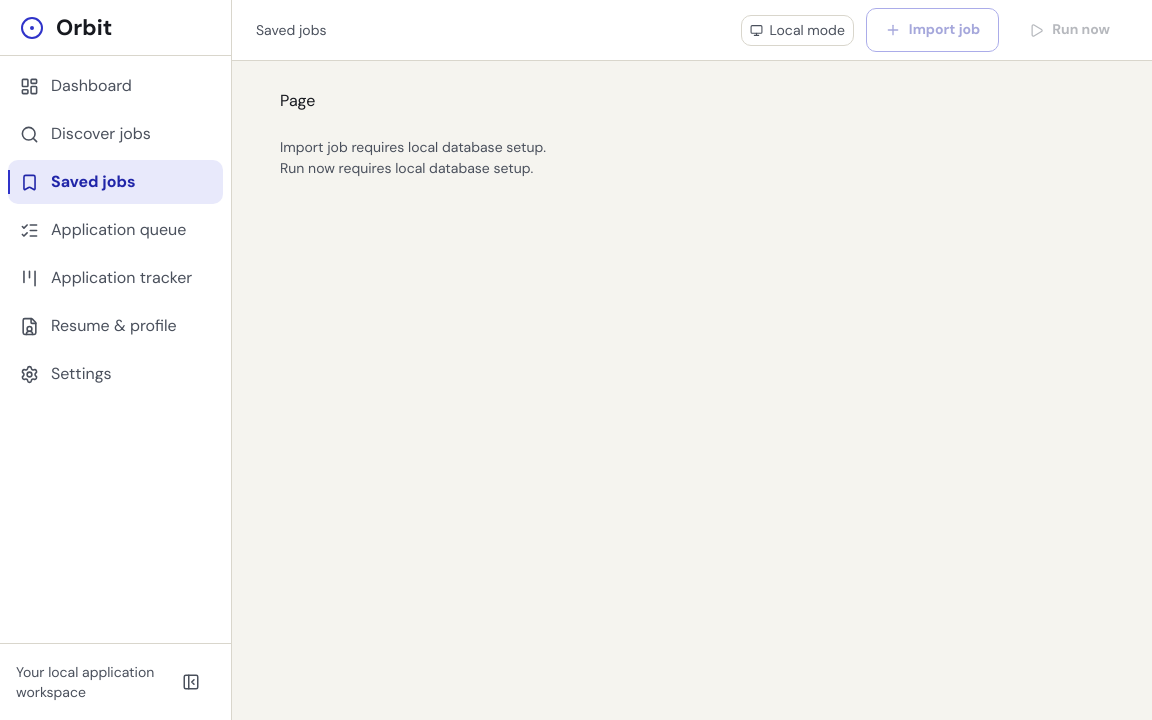
Test: workspace navigation › collapses and expands desktop navigation
What coordinates should you click on to do the following:
click the button named "Collapse sidebar"
I would click on:
 (191, 682)
Its box is [167,660,215,704].
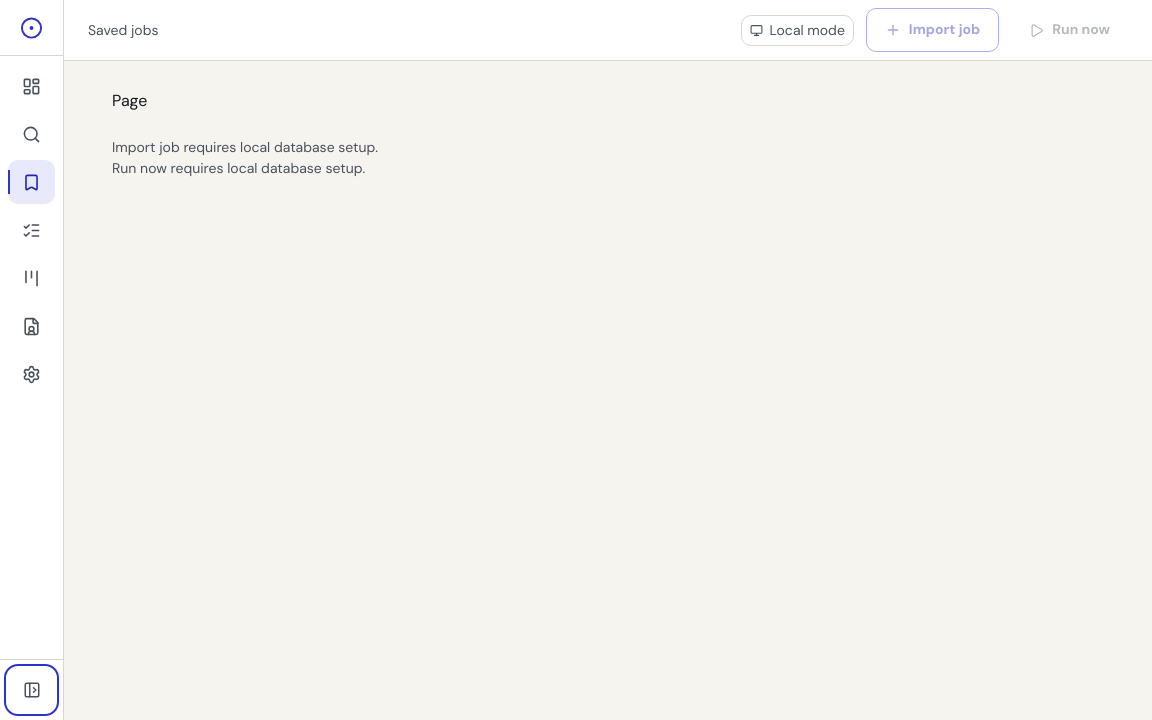
Expected: the button named "Expand sidebar" is collapsed
What coordinates should you click on to do the following:
click the button named "Expand sidebar"
I would click on:
 (32, 690)
Its box is [8,668,55,712].
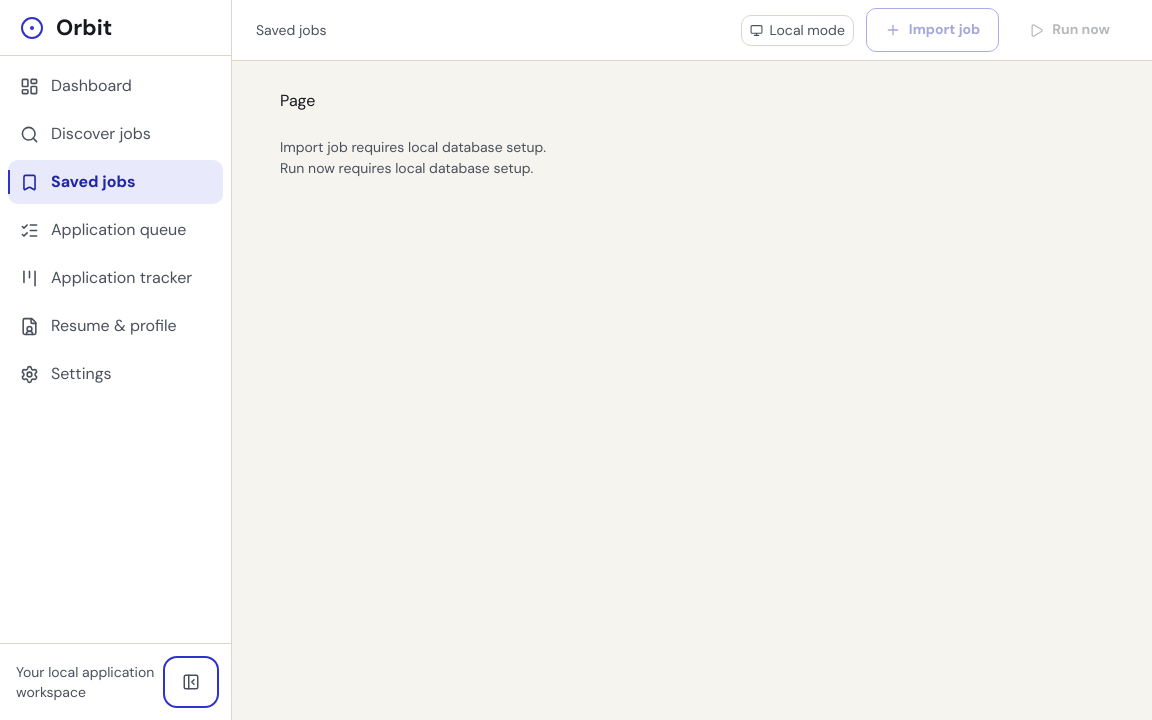
Expected: the button named "Collapse sidebar" is expanded, [167,660,215,704]
